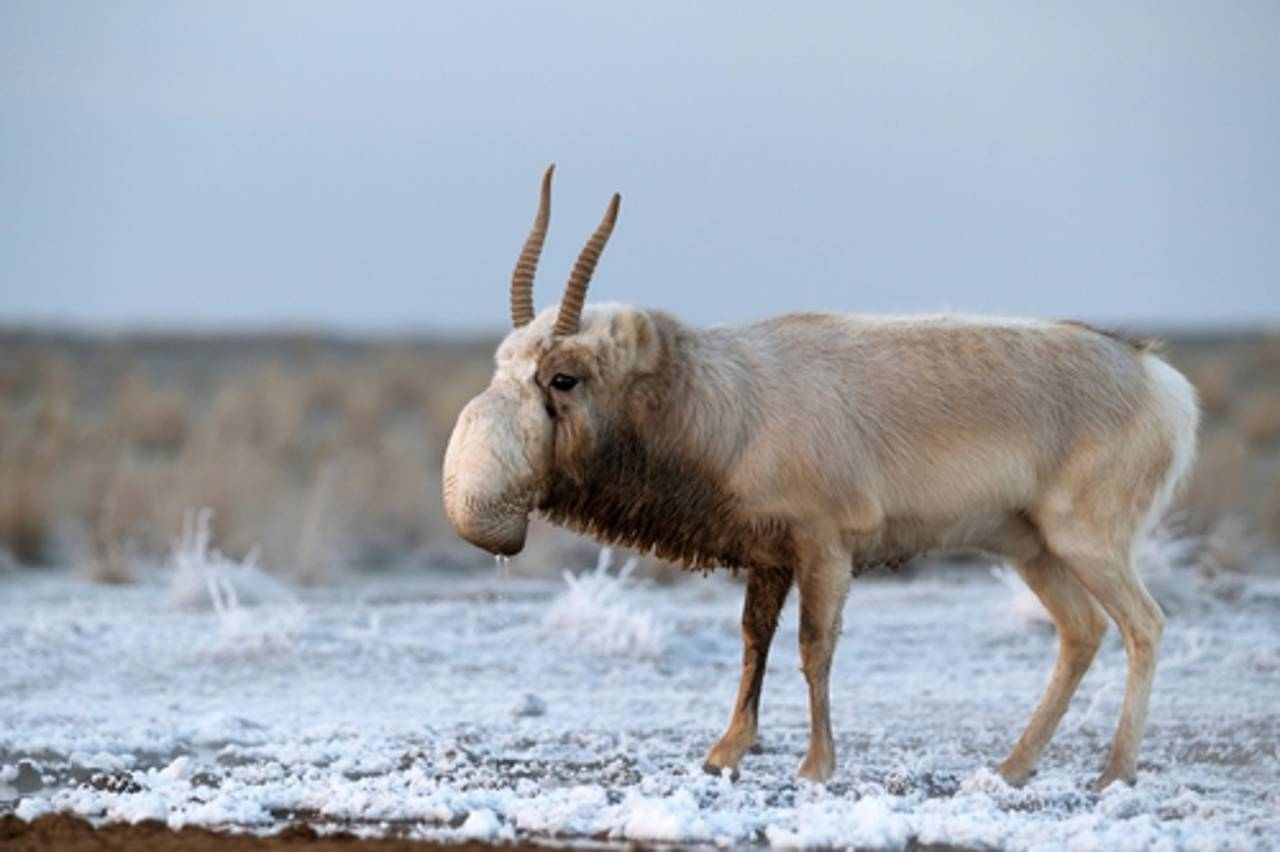saiga: (422, 131, 1230, 814)
